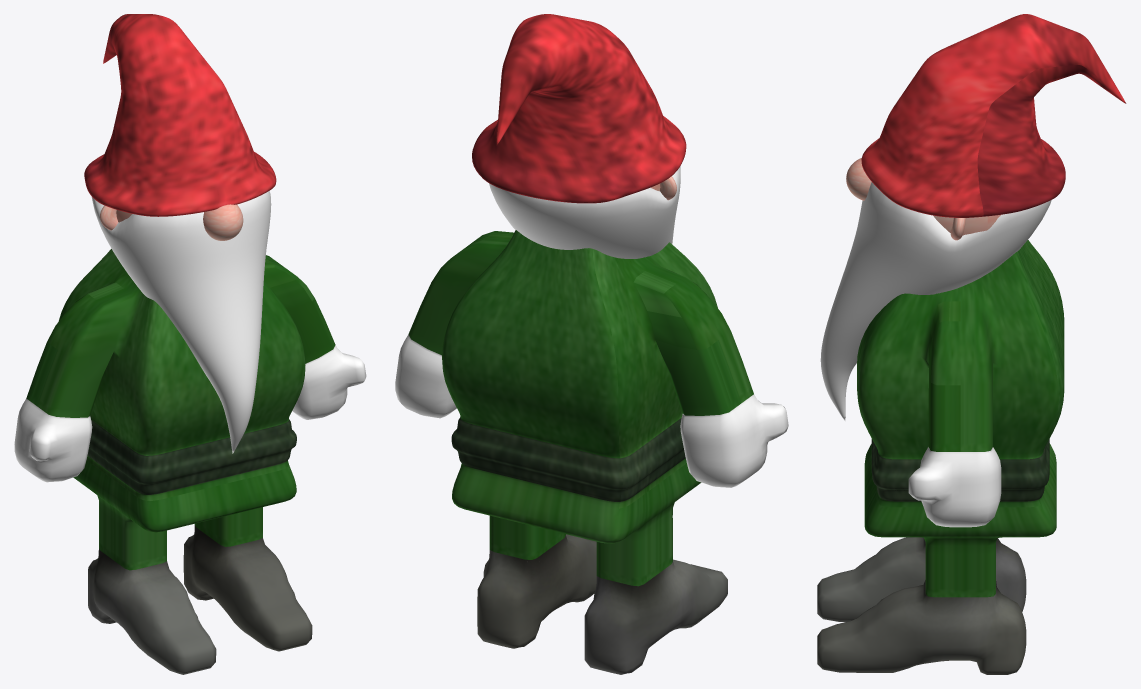
The model's file is GnomeTest-TR.fbx.
3 renders of one model, left to right at view 1: azimuth 30°, elevation 25°; view 2: azimuth 150°, elevation 25°; view 3: azimuth 270°, elevation 25°, orthographic. The views are drawn at different scales.
Parts seen in each view (by area): view 1: gnome1210; view 2: gnome1210; view 3: gnome1210.
Part boxes in pixels (bbox=[...]): gnome1210: bbox=[14, 14, 366, 674]; gnome1210: bbox=[395, 14, 788, 674]; gnome1210: bbox=[817, 14, 1126, 674].
Bounding box in the file's own units: 16.28 × 27.08 × 12.13.
